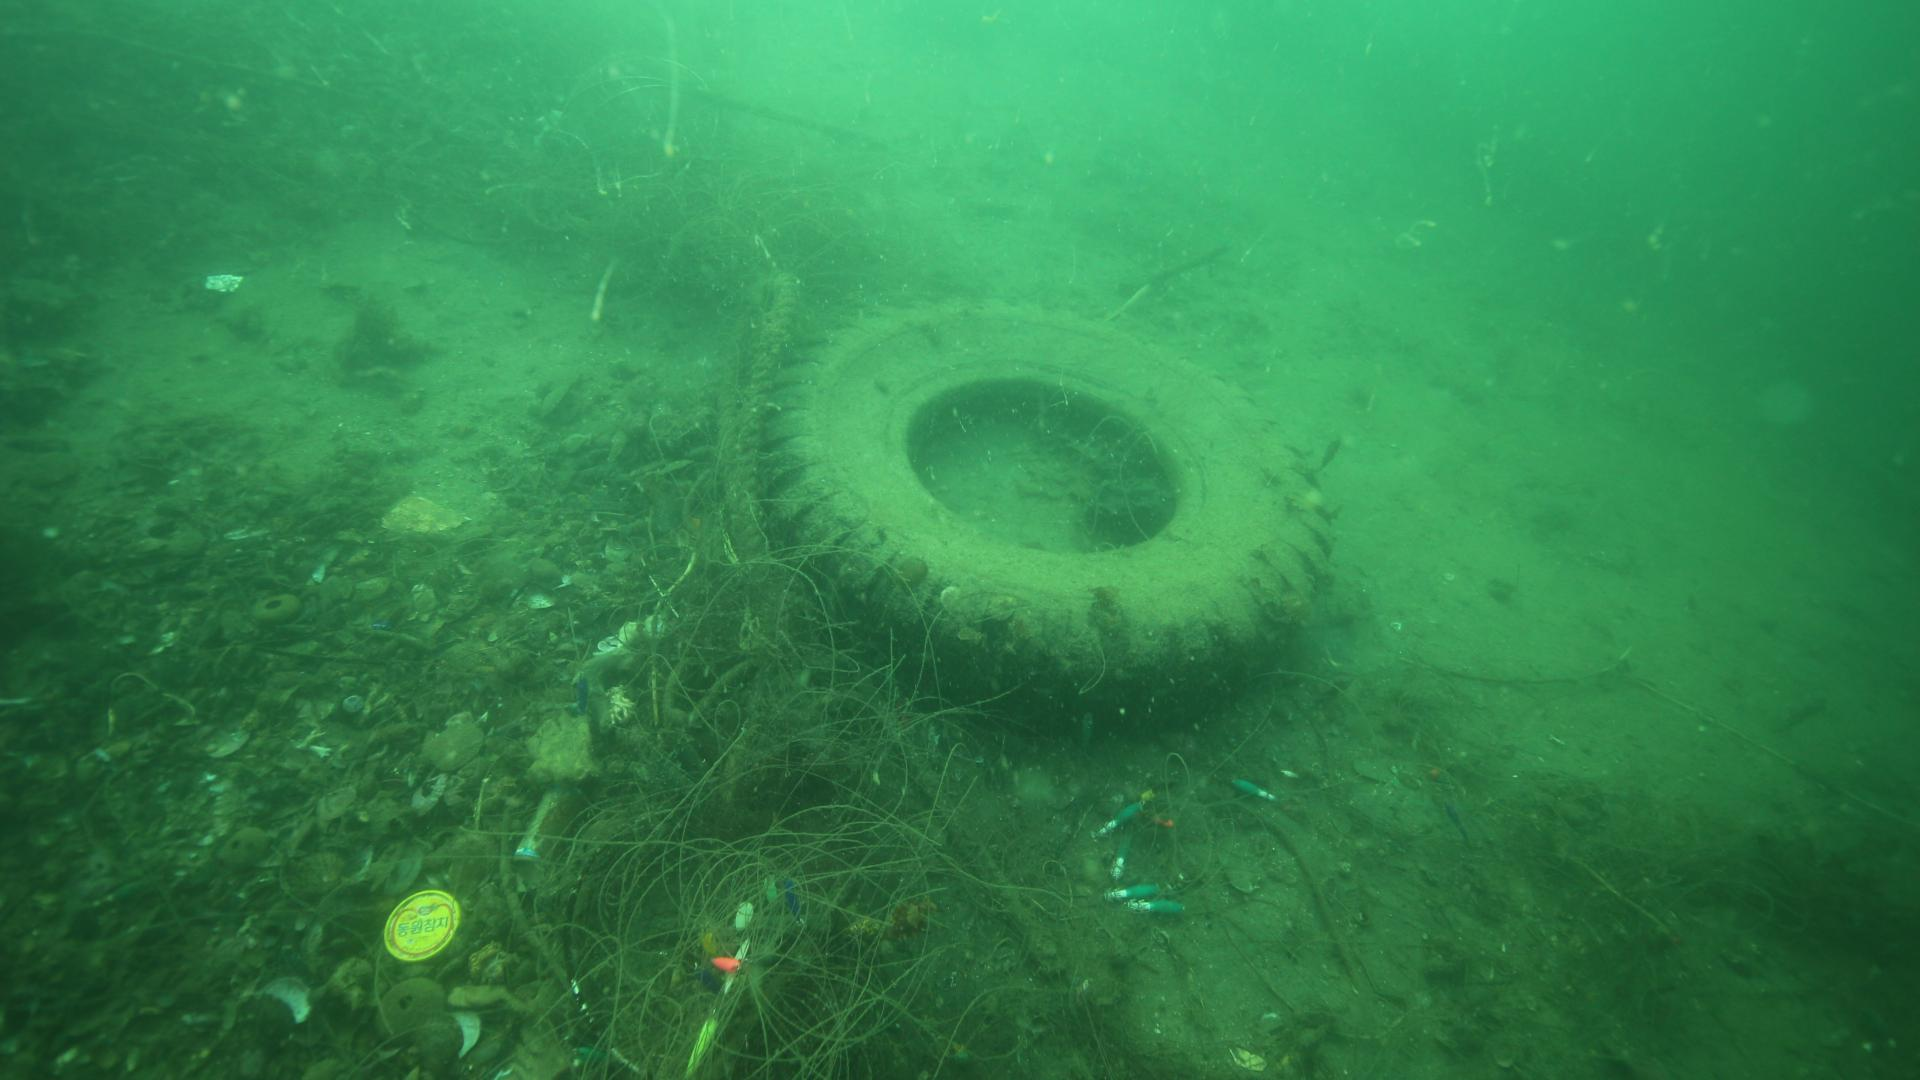tire: (764, 295, 1335, 732)
